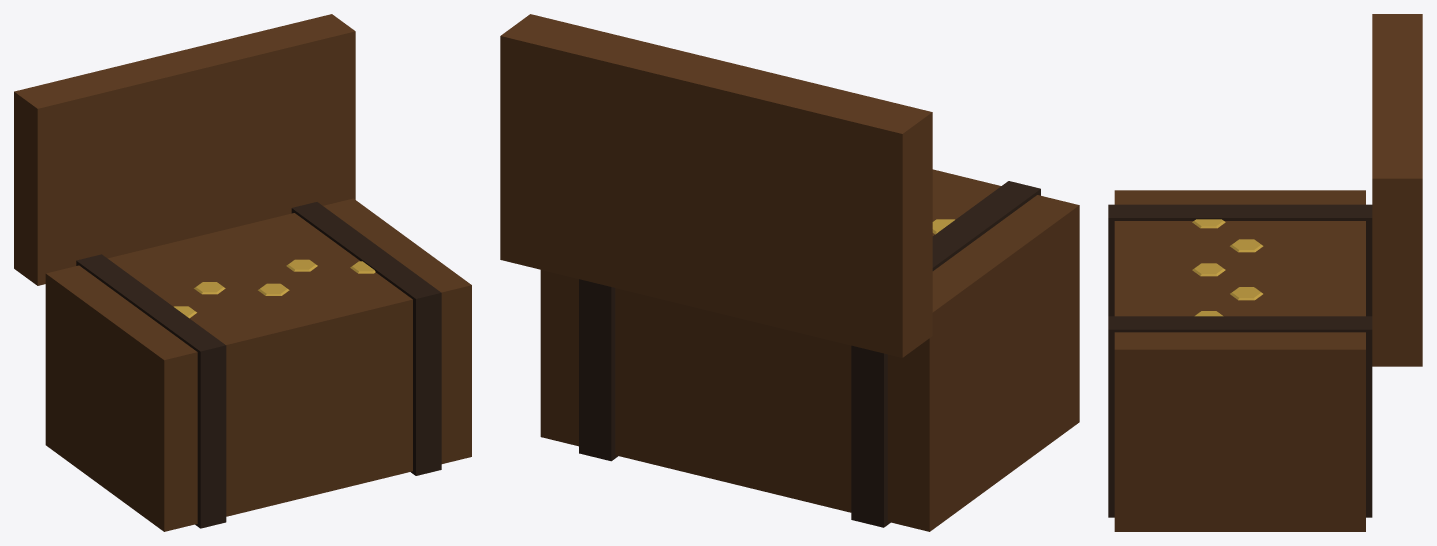
Rendered from chest_open.glb.
3 views of the same model, side by side, from view 1: azimuth 30°, elevation 25°; view 2: azimuth 150°, elevation 25°; view 3: azimuth 270°, elevation 25° (orthographic). The views are drawn at different scales.
Visible parts, largest first — view 1: chest_open; view 2: chest_open; view 3: chest_open.
Part boxes in pixels (x1,y1,x2,y2): chest_open: (14,14,471,531); chest_open: (500,14,1079,531); chest_open: (1108,14,1422,531).
Size of the model in its own units: 1.24 by 1.26 by 1.
